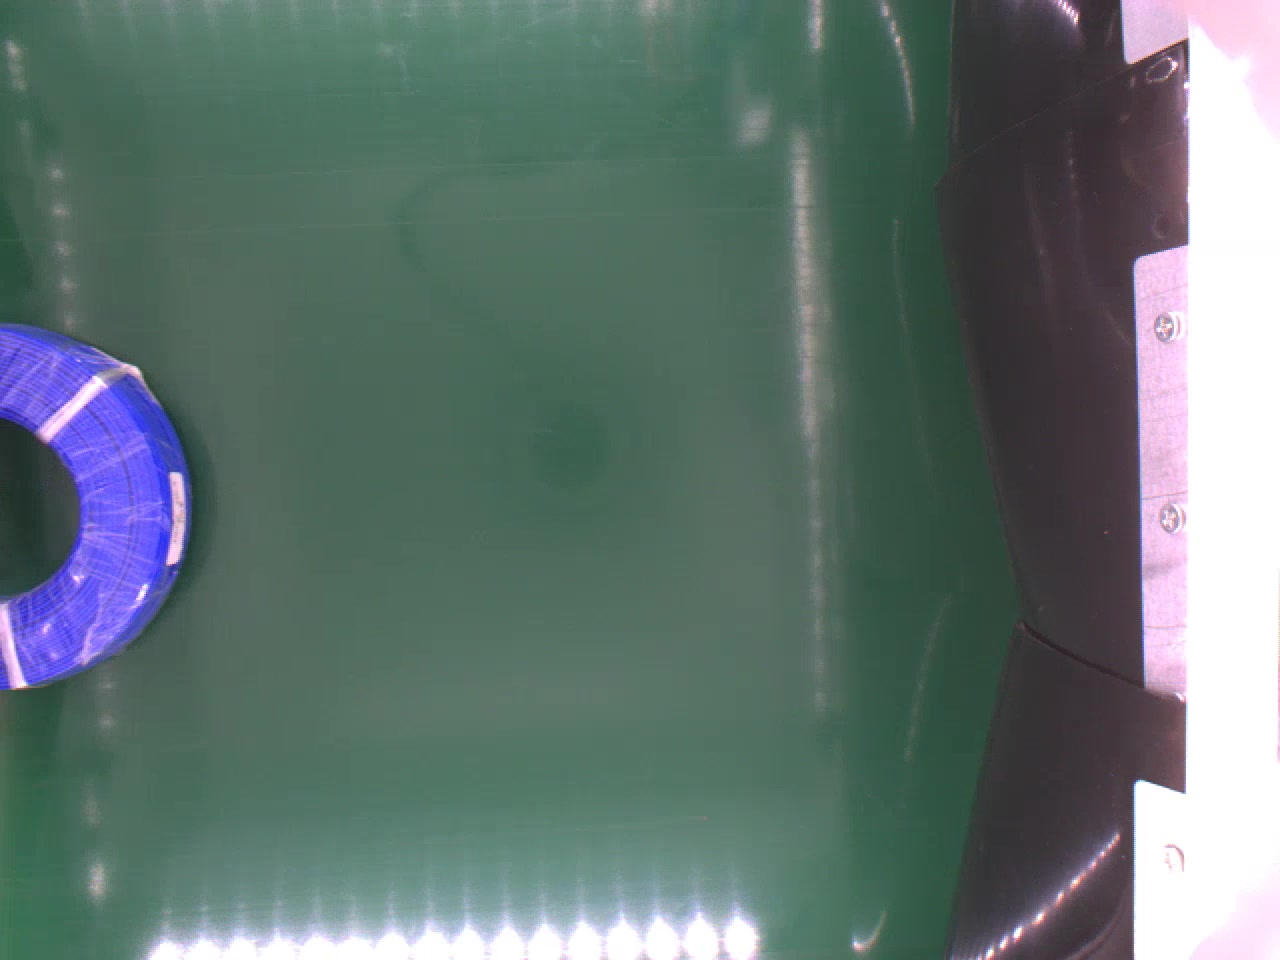blue: (0, 325, 201, 693)
